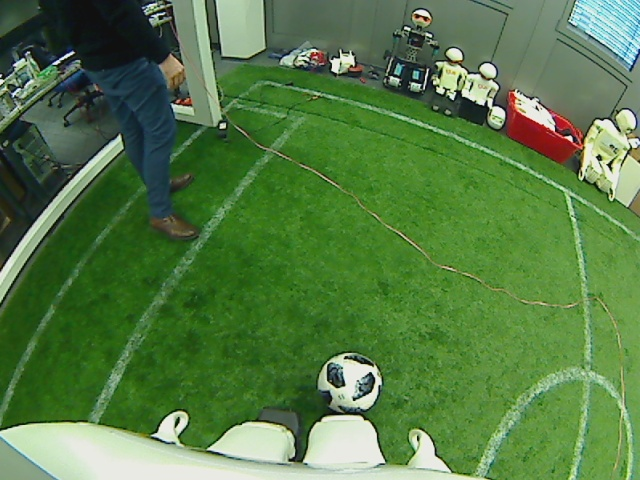ball: (314, 350, 384, 415)
